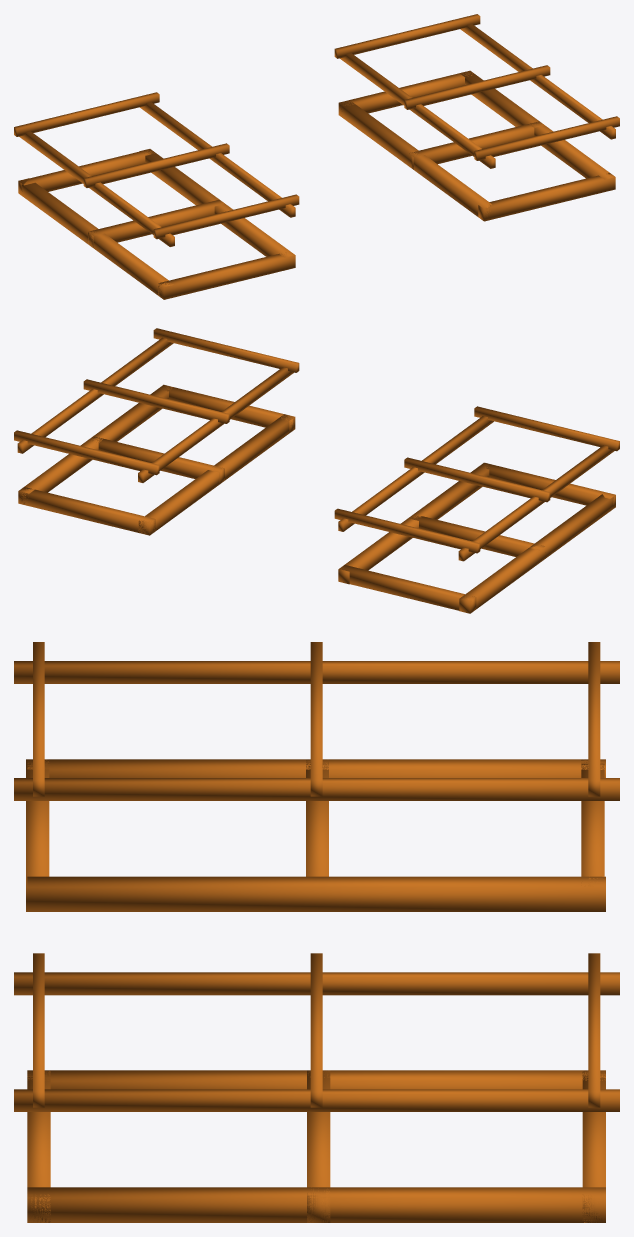
Rendered from building_explode_03.glb.
The picture shows the model from 3 angles, top to bottom: view 1: azimuth 30°, elevation 25°; view 2: azimuth 150°, elevation 25°; view 3: azimuth 270°, elevation 25°; orthographic projection. The views are drawn at different scales.
Parts seen in each view (by area): view 1: full_building.003; view 2: full_building.003; view 3: full_building.003.
Boxes of the visible parts, box(x1,y1,x2,y2) form: full_building.003: box(14, 14, 619, 299); full_building.003: box(14, 328, 619, 613); full_building.003: box(14, 642, 619, 1222).
Size of the model in its own units: 3.05 by 0.4321 by 1.74.
